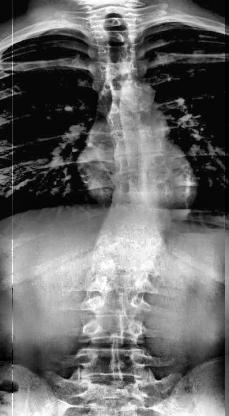Vertebrae: (76, 346, 160, 382), (81, 314, 153, 346), (113, 177, 180, 205), (82, 287, 154, 313), (100, 220, 172, 246), (112, 156, 178, 182), (83, 268, 157, 290), (110, 201, 174, 226), (91, 244, 157, 268), (111, 130, 167, 156), (95, 62, 147, 90), (100, 85, 151, 111), (108, 110, 160, 134), (94, 46, 142, 64), (93, 30, 138, 48), (89, 17, 140, 32)
